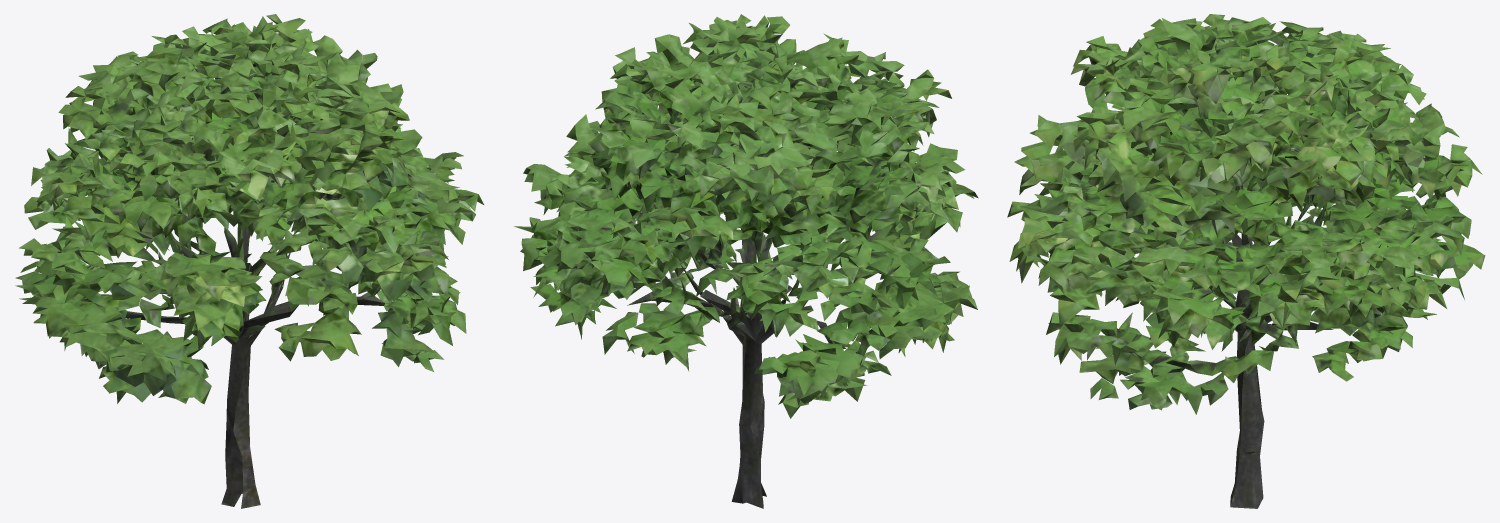
Rendered from 2-canopy.glb.
The picture shows the model from 3 angles, left to right: view 1: azimuth 30°, elevation 25°; view 2: azimuth 150°, elevation 25°; view 3: azimuth 270°, elevation 25°; orthographic projection. The views are drawn at different scales.
Parts seen in each view (by area): view 1: geometry_0; view 2: geometry_0; view 3: geometry_0.
Boxes of the visible parts, bbox=[...] form: geometry_0: bbox=[15, 14, 483, 508]; geometry_0: bbox=[514, 14, 978, 508]; geometry_0: bbox=[1007, 14, 1485, 508].
Bounding box in the file's own units: 7.58 × 8 × 7.43.
Materials: 1 (1 with a texture image).
